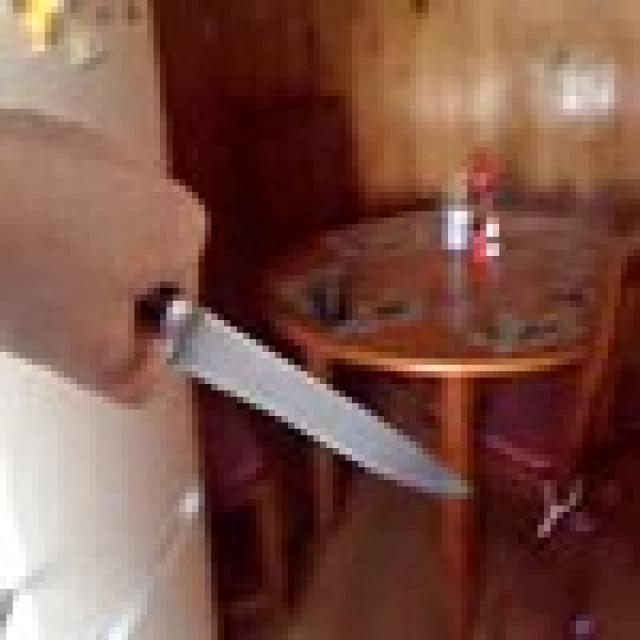faca: (148, 256, 486, 525)
